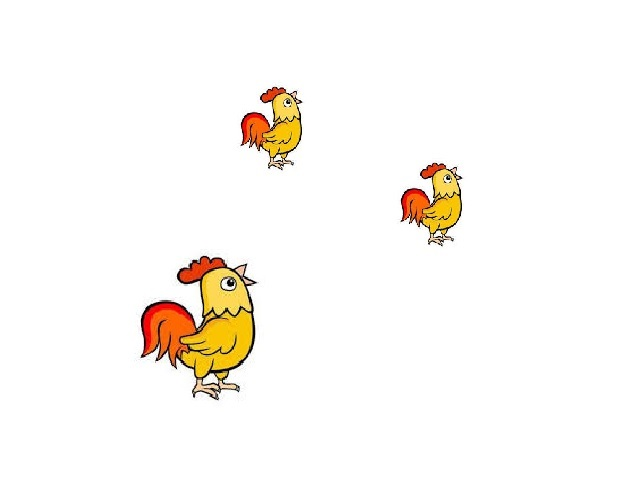crown: (170, 251, 229, 277), (260, 85, 288, 99), (422, 162, 445, 177)
eyes: (220, 275, 238, 293), (283, 96, 293, 109), (443, 174, 451, 186)
feet: (192, 375, 242, 399), (425, 230, 457, 246), (267, 155, 294, 172)
tail: (134, 302, 194, 364), (239, 114, 273, 153), (398, 188, 429, 224)
